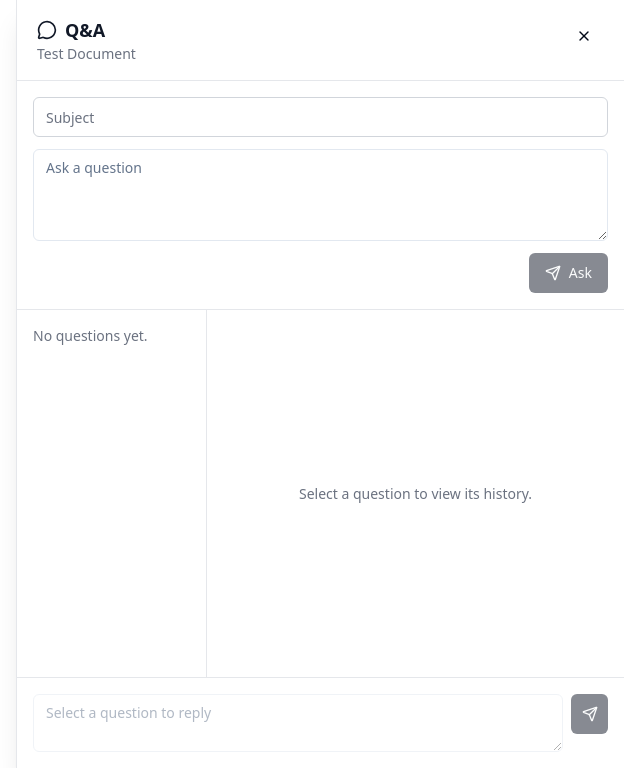
QnAPanel › creates a thread with dataroom context
The width and height of the screenshot is (624, 768).
Type "New subject" into the field named "question subject". click: (320, 117)
box: [33, 97, 608, 137]
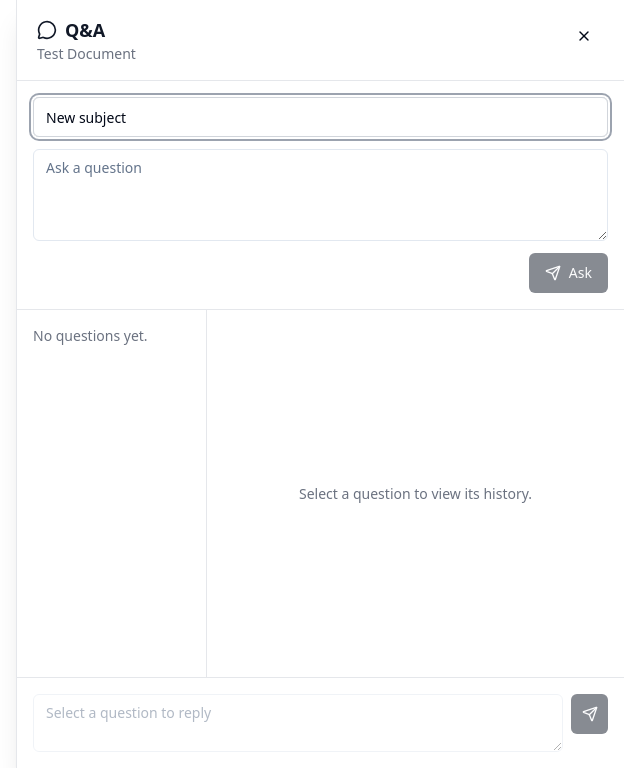
Type "New message" into the text box named "question message". click: (320, 195)
box: [33, 149, 608, 241]
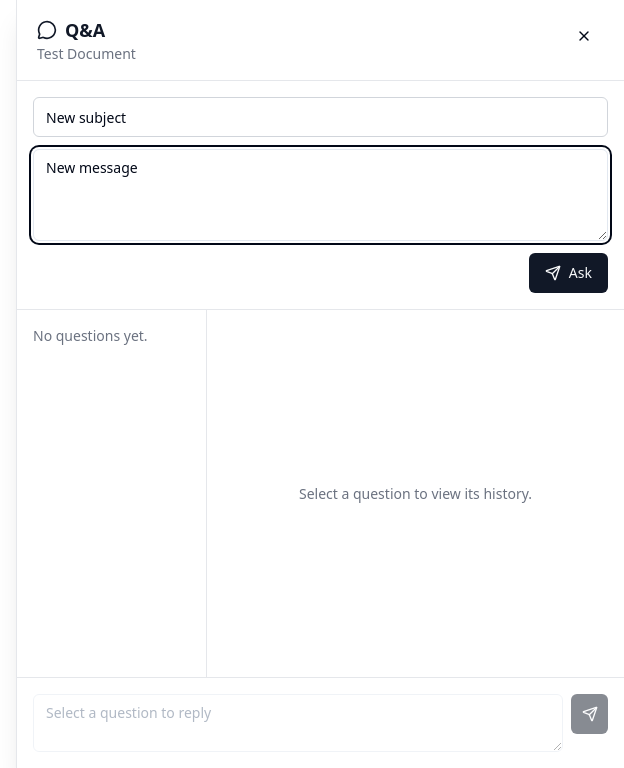
Click the button "Ask". click: click(568, 273)
box: [529, 253, 608, 293]
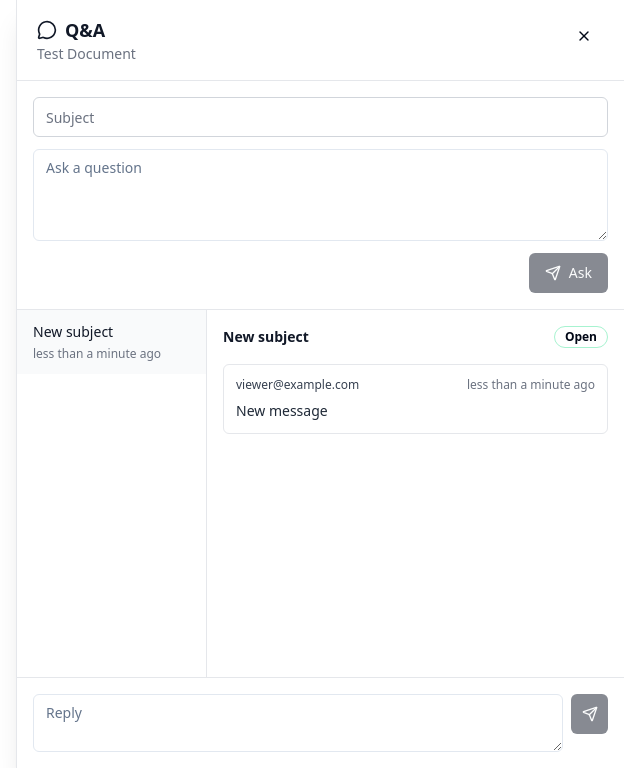
Result: the text "New subject" is shown at [33, 322, 113, 341]
